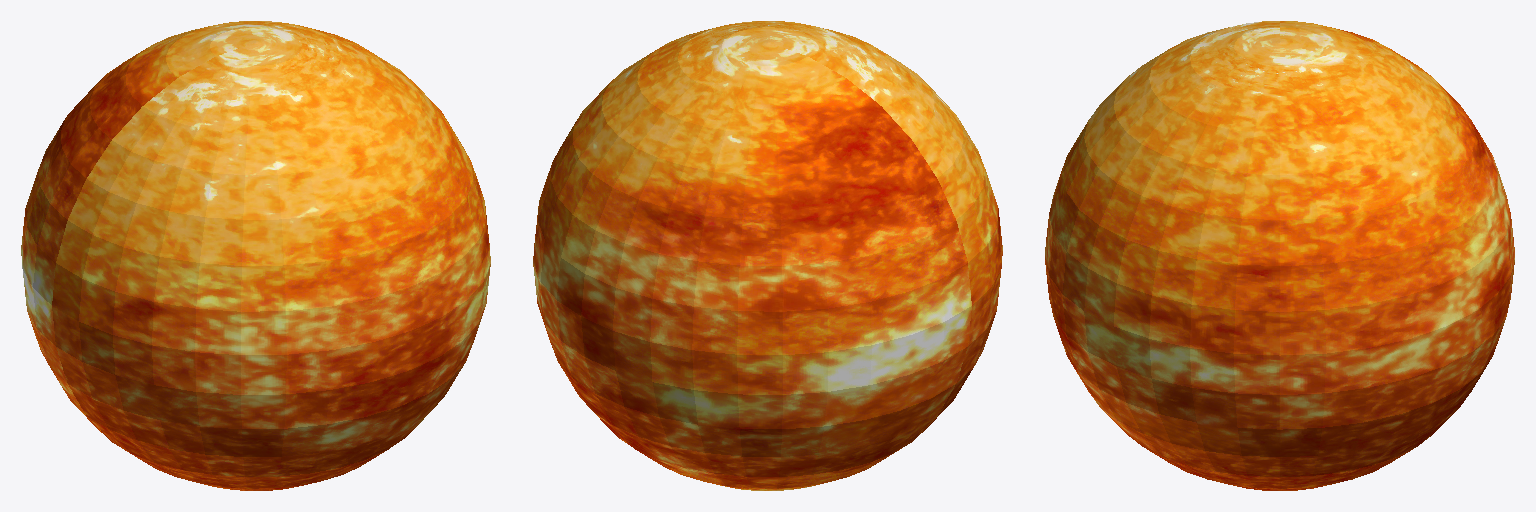
3 views of the same model, side by side, from view 1: azimuth 30°, elevation 25°; view 2: azimuth 150°, elevation 25°; view 3: azimuth 270°, elevation 25° (orthographic).
Parts seen in each view (by area): view 1: Sphere; view 2: Sphere; view 3: Sphere.
Boxes of the visible parts, x1=… form: Sphere: x1=21, y1=21, x2=490, y2=490; Sphere: x1=533, y1=21, x2=1002, y2=490; Sphere: x1=1045, y1=21, x2=1514, y2=490.
Bounding box in the file's own units: 2 × 2 × 2.
1 materials, 1 textured.